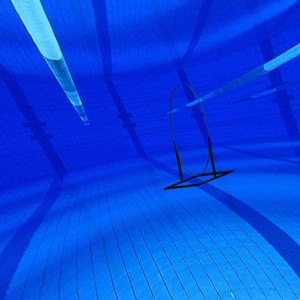circle: (162, 83, 235, 192)
